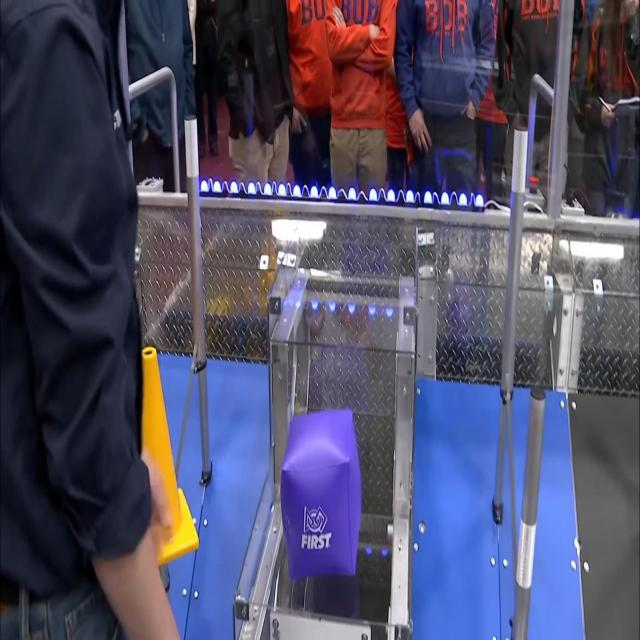frc_cone: (134, 345, 200, 562)
frc_cube: (281, 407, 361, 579)
